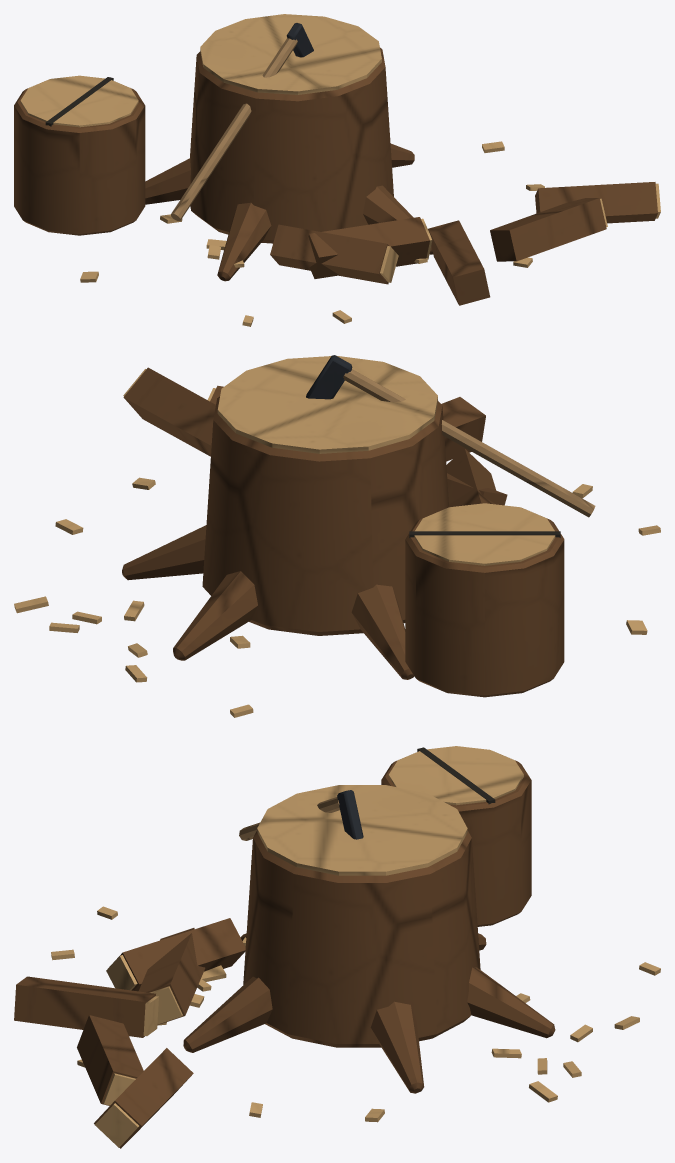
The model's file is chopping_block.glb.
3 renders of one model, top to bottom at view 1: azimuth 30°, elevation 25°; view 2: azimuth 150°, elevation 25°; view 3: azimuth 270°, elevation 25°, orthographic. The views are drawn at different scales.
Parts seen in each view (by area): view 1: chopping_block; view 2: chopping_block; view 3: chopping_block.
Part boxes in pixels (bbox=[...]): chopping_block: bbox=[14, 14, 660, 326]; chopping_block: bbox=[14, 355, 660, 717]; chopping_block: bbox=[14, 746, 660, 1148].
Bounding box in the file's own units: 1.77 × 0.6616 × 1.72.
6 materials, 6 textured.
